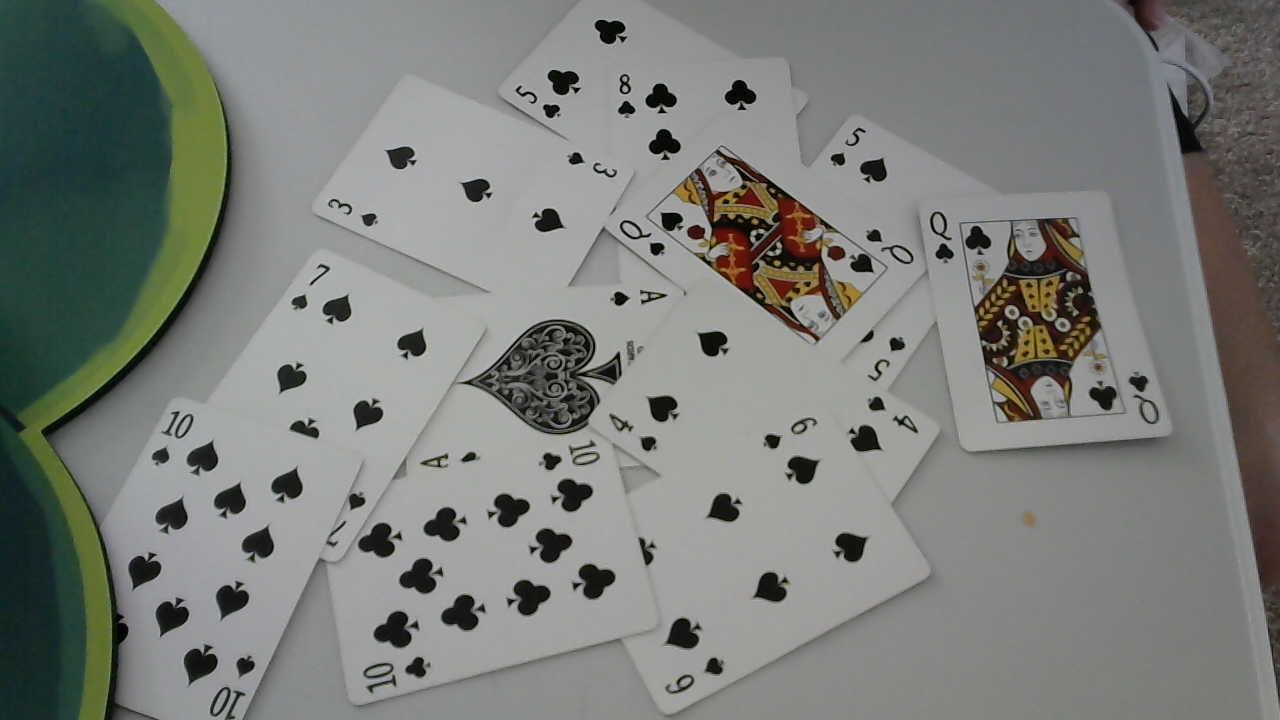10C: (363, 655, 432, 695), (537, 438, 602, 474)
10S: (206, 653, 258, 720), (150, 407, 196, 470)
3S: (326, 196, 381, 228), (565, 149, 620, 180)
4S: (606, 412, 661, 456), (863, 393, 922, 434)
5C: (514, 84, 562, 120)
5S: (865, 331, 908, 383), (829, 124, 868, 170)
6S: (662, 657, 726, 697), (761, 414, 820, 452)
7S: (289, 260, 334, 316)
8C: (617, 71, 637, 122)
AS: (607, 285, 670, 308)
QC: (1125, 367, 1162, 427), (926, 209, 959, 266)
QS: (862, 223, 917, 266), (618, 217, 669, 258)
